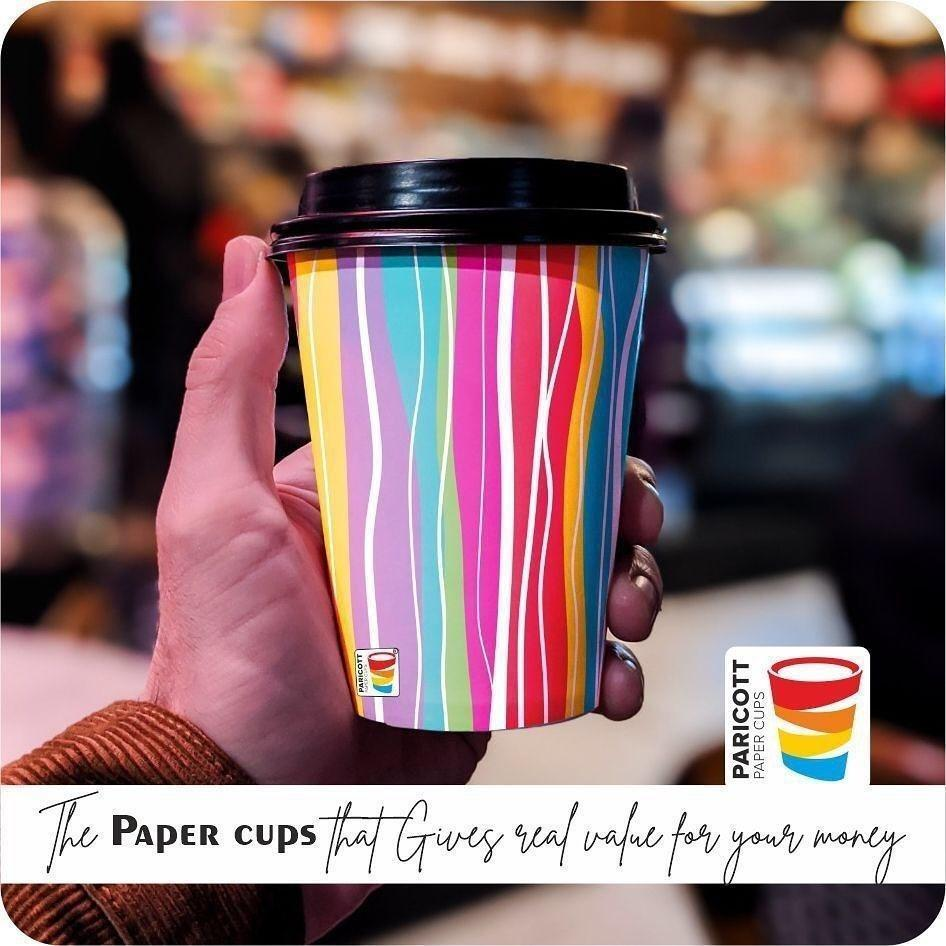cup-disposable: (269, 142, 657, 739)
